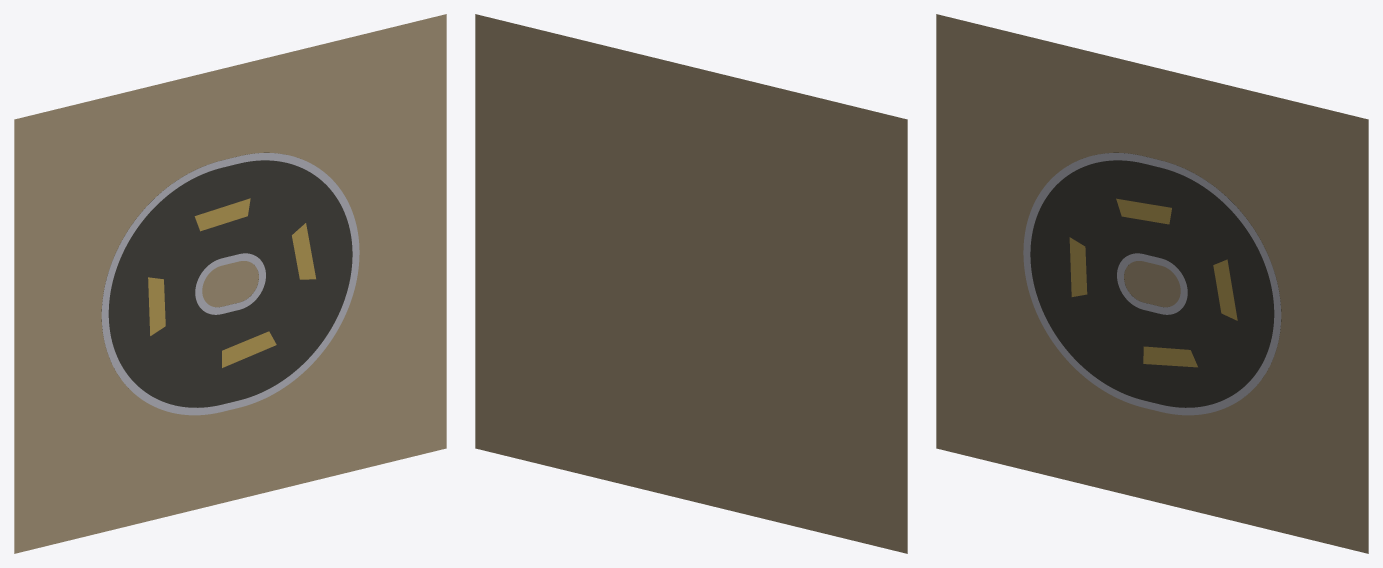
The model's file is track.obj.
The picture shows the model from 3 angles, left to right: view 1: azimuth 30°, elevation 25°; view 2: azimuth 150°, elevation 25°; view 3: azimuth 330°, elevation 25°; orthographic projection.
Size of the model in its own units: 2.47 by 2.38 by 0.0025.
